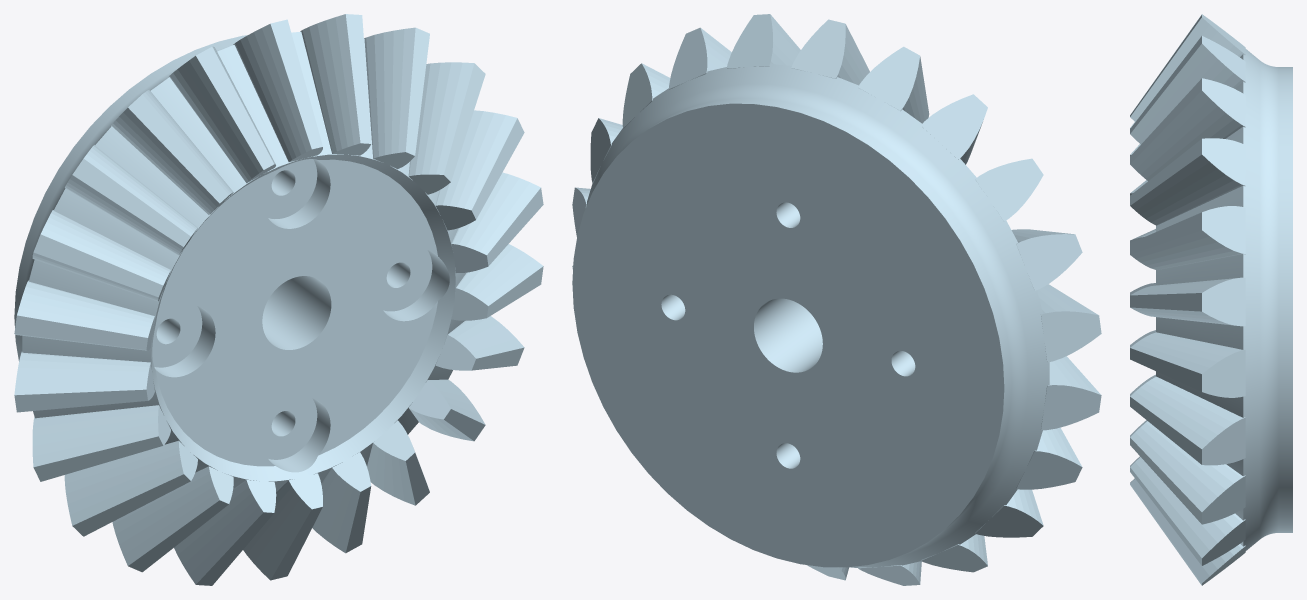
The picture shows the model from 3 angles, left to right: view 1: azimuth 30°, elevation 25°; view 2: azimuth 150°, elevation 25°; view 3: azimuth 270°, elevation 25°; orthographic projection. The views are drawn at different scales.
Parts seen in each view (by area): view 1: mesh1714, mesh1728, mesh1715, mesh1726, mesh1747, mesh1746, mesh1748, mesh1745, mesh1809, mesh1792, mesh1826, mesh1775 (+105 smaller); view 2: mesh1725, mesh2108, mesh1727, mesh1726, mesh1715, mesh1816, mesh1799, mesh1833, mesh1782, mesh1850, mesh1765, mesh1867 (+8 smaller); view 3: mesh1727, mesh2108, mesh1726, mesh1731, mesh1732, mesh2071, mesh2088, mesh2054, mesh2105, mesh2037, mesh1774, mesh2064 (+59 smaller).
Part boxes in pixels (x1=…): mesh1714: x1=155, y1=159, x2=437, y2=466; mesh1728: x1=151, y1=154, x2=455, y2=481; mesh1715: x1=262, y1=276, x2=331, y2=349; mesh1726: x1=14, y1=35, x2=247, y2=361; mesh1747: x1=95, y1=126, x2=217, y2=234; mesh1746: x1=53, y1=188, x2=184, y2=282; mesh1748: x1=151, y1=77, x2=257, y2=200; mesh1745: x1=29, y1=259, x2=164, y2=327; mesh1809: x1=72, y1=158, x2=190, y2=246; mesh1792: x1=128, y1=94, x2=228, y2=203; mesh1826: x1=33, y1=234, x2=162, y2=297; mesh1775: x1=196, y1=47, x2=273, y2=169; mesh1725: x1=572, y1=103, x2=1004, y2=567; mesh2108: x1=587, y1=64, x2=1049, y2=567; mesh1727: x1=612, y1=84, x2=1028, y2=555; mesh1726: x1=649, y1=98, x2=1011, y2=528; mesh1715: x1=754, y1=298, x2=822, y2=372; mesh1816: x1=975, y1=158, x2=1043, y2=221; mesh1799: x1=921, y1=94, x2=987, y2=159; mesh1833: x1=1016, y1=234, x2=1082, y2=290; mesh1782: x1=858, y1=46, x2=919, y2=110; mesh1850: x1=1041, y1=311, x2=1101, y2=362; mesh1765: x1=791, y1=19, x2=845, y2=78; mesh1867: x1=1041, y1=385, x2=1101, y2=430; mesh1727: x1=1259, y1=60, x2=1278, y2=539; mesh2108: x1=1243, y1=49, x2=1259, y2=550; mesh1726: x1=1278, y1=67, x2=1292, y2=532; mesh1731: x1=1156, y1=254, x2=1243, y2=285; mesh1732: x1=1156, y1=317, x2=1243, y2=349; mesh2071: x1=1202, y1=277, x2=1245, y2=326; mesh2088: x1=1202, y1=206, x2=1245, y2=253; mesh2054: x1=1202, y1=350, x2=1245, y2=397; mesh2105: x1=1202, y1=138, x2=1245, y2=185; mesh2037: x1=1202, y1=417, x2=1245, y2=465; mesh1774: x1=1130, y1=17, x2=1209, y2=121; mesh2064: x1=1130, y1=293, x2=1201, y2=311.
Size of the model in its own units: 0.023 by 0.0231 by 0.00656.
